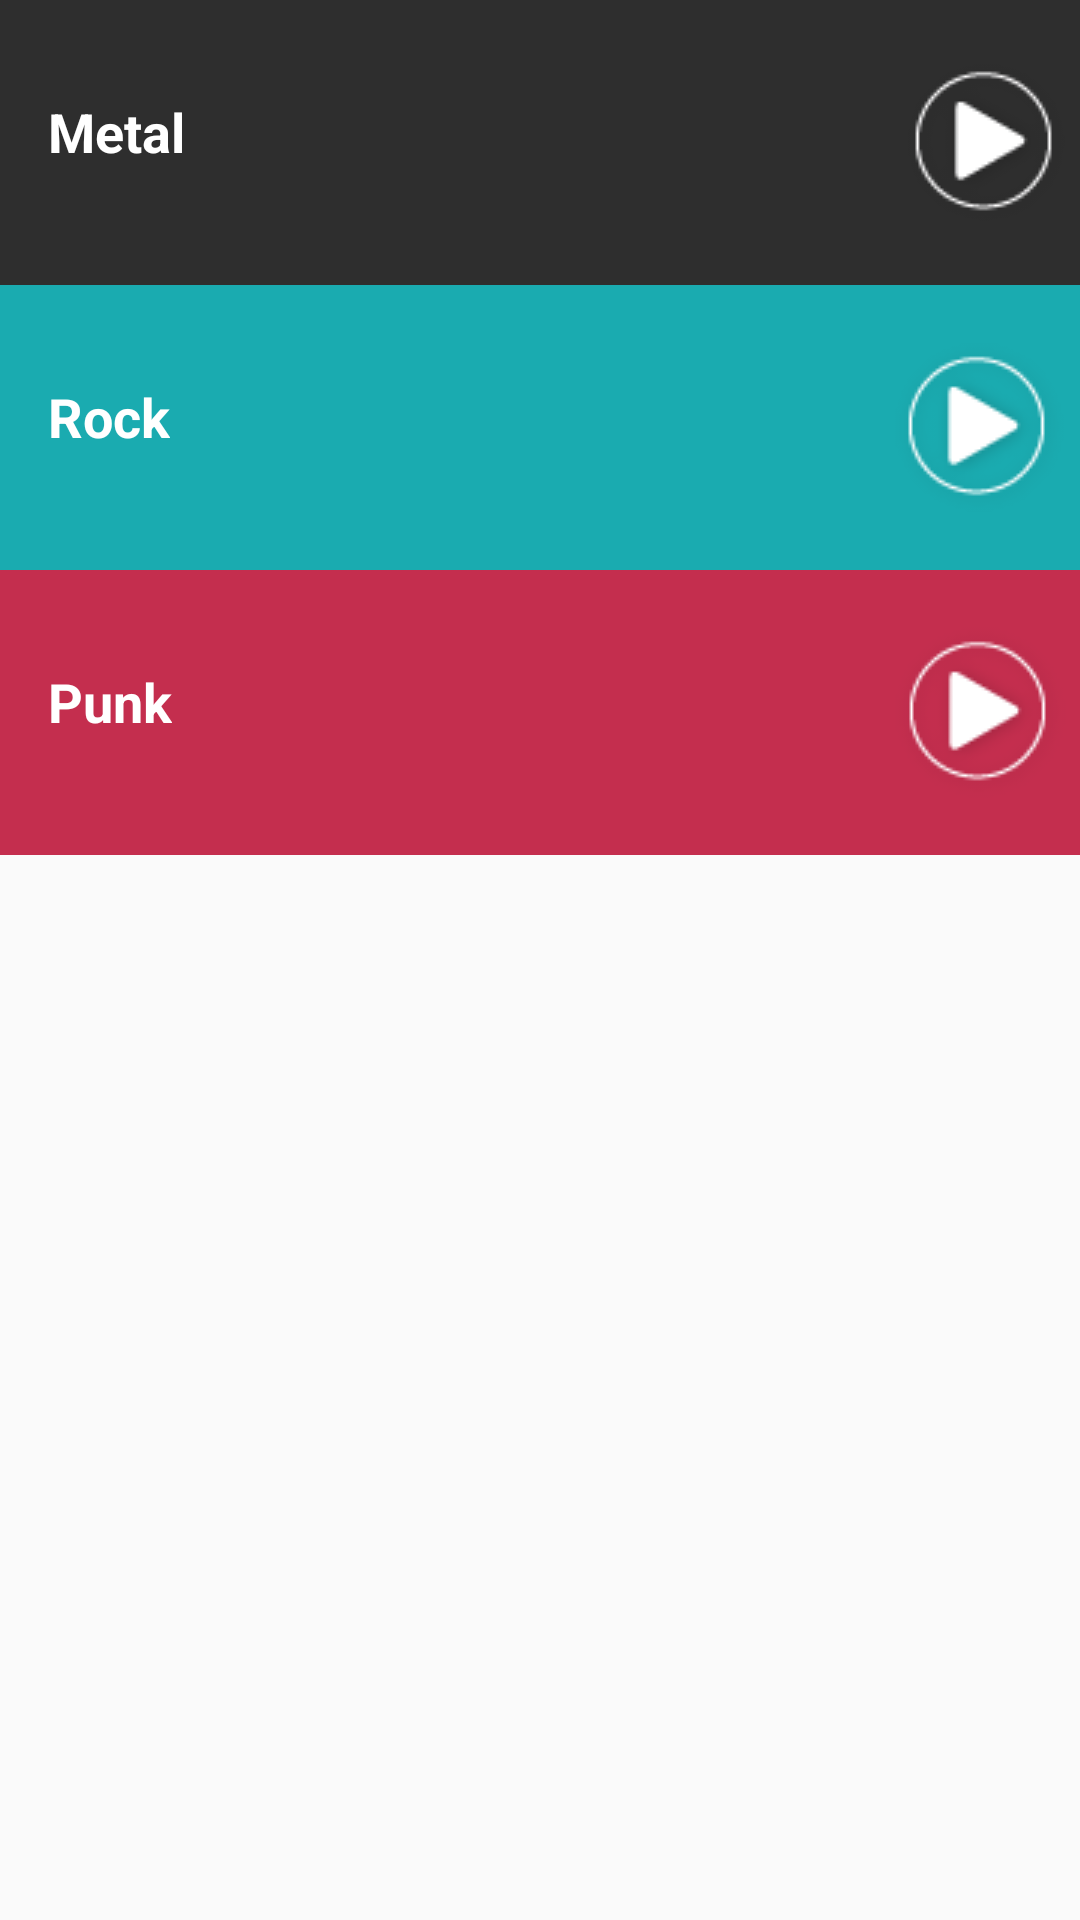

Icons on this 1080px x 1920px Android screen, each with the point to tap as point (x, y):
play: point (983, 141), point (976, 426), point (977, 711)
